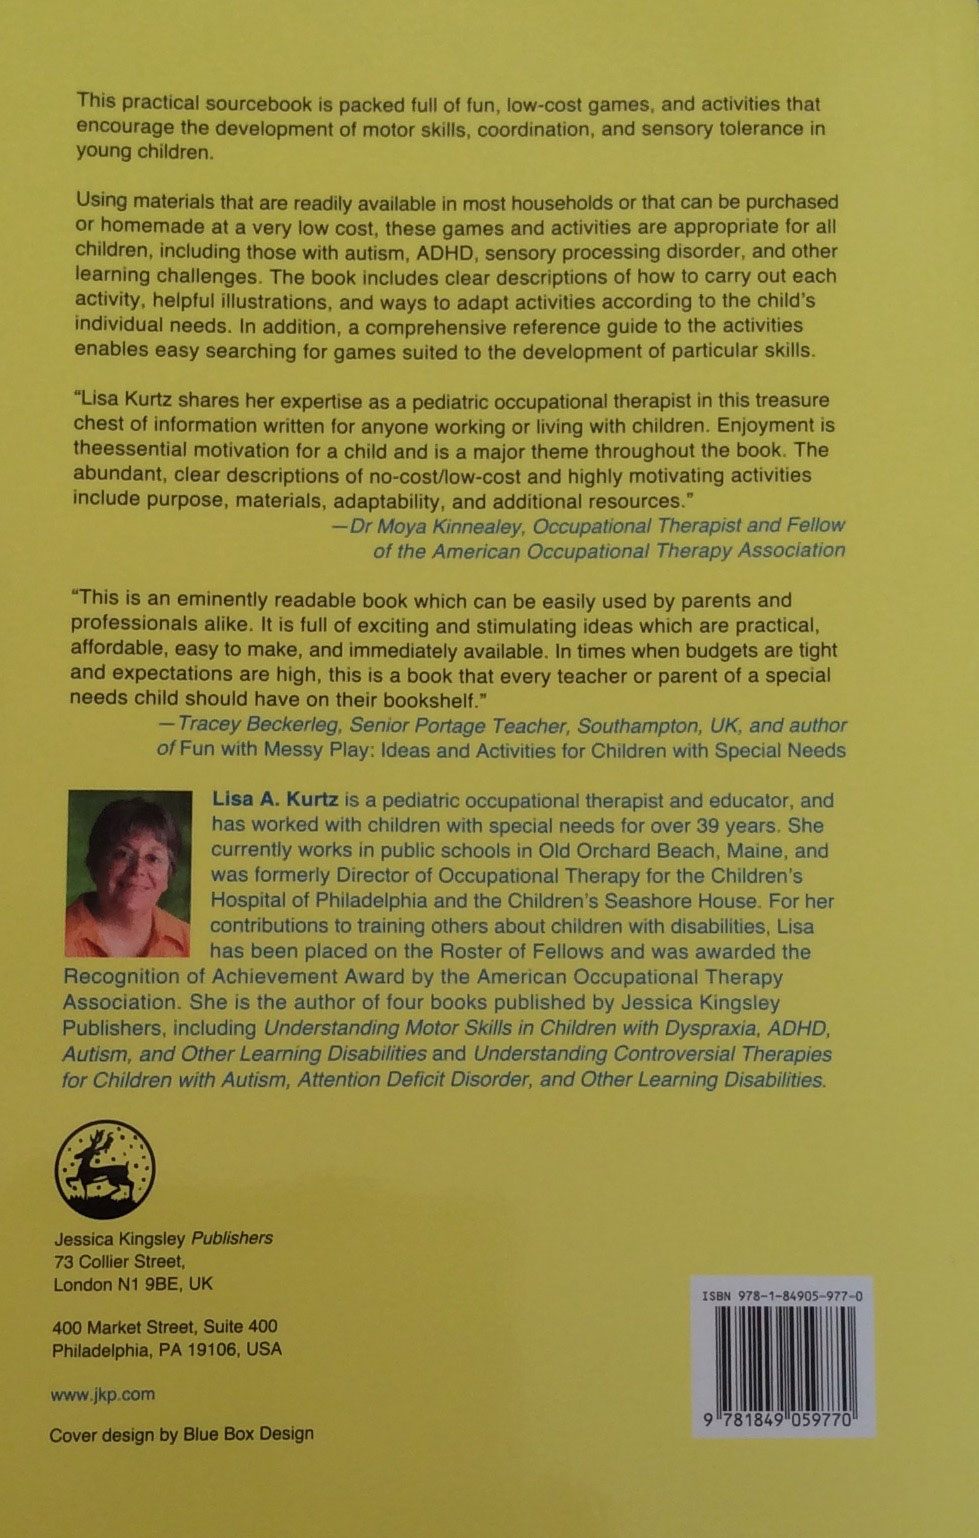barcode: (689, 1284, 883, 1439)
